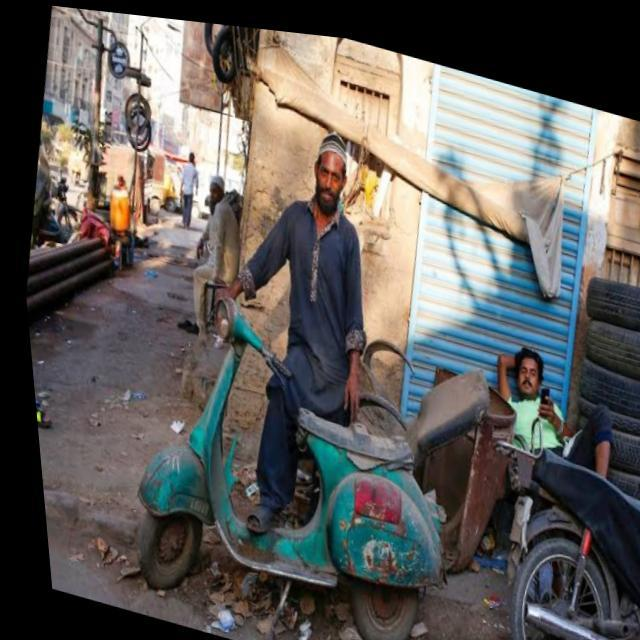Nonhelmet: (505, 336, 550, 400)
